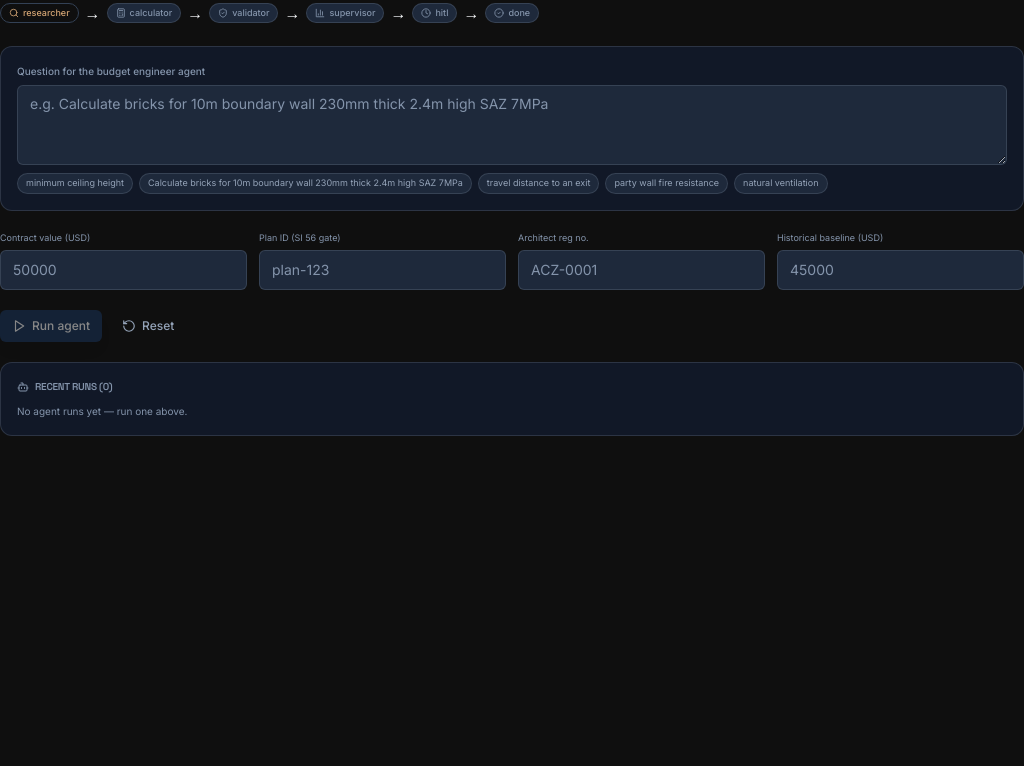
AgentRunnerPanel › shows an interrupt with Approve/Reject and resumes on APPROVED
Replace the text in the text box with test id "agent-query" with "proposed 2-storey block" at (512, 125), box [17,85,1007,165]
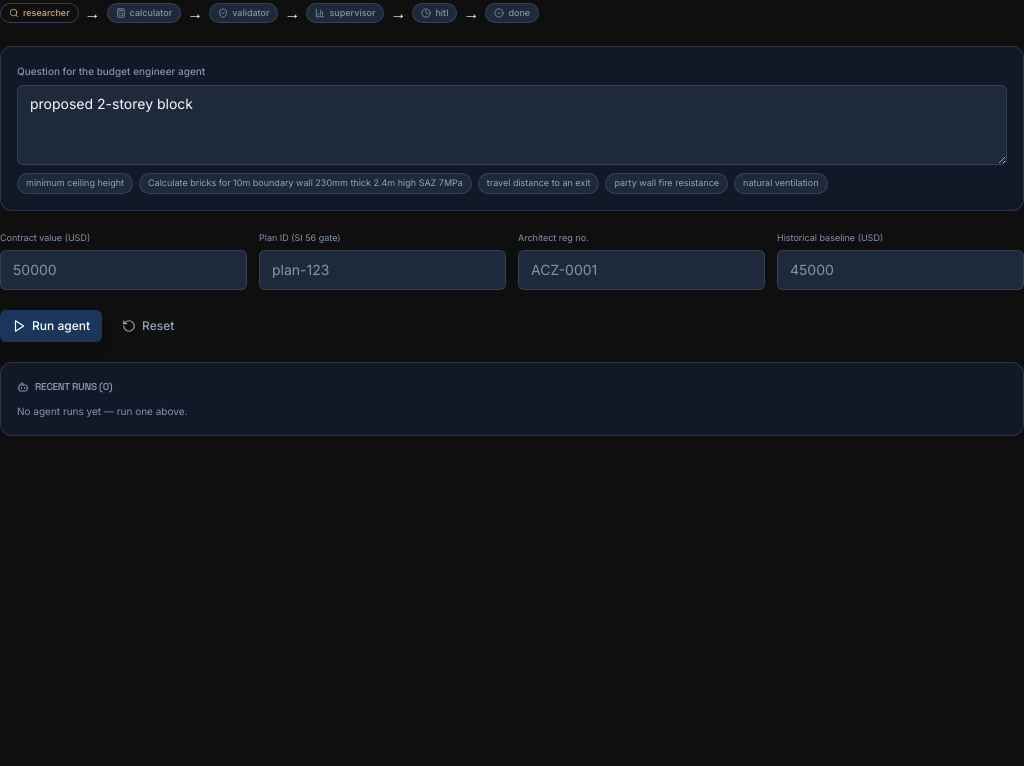
Click the button "Run agent" at (51, 326), box [0,310,102,342]
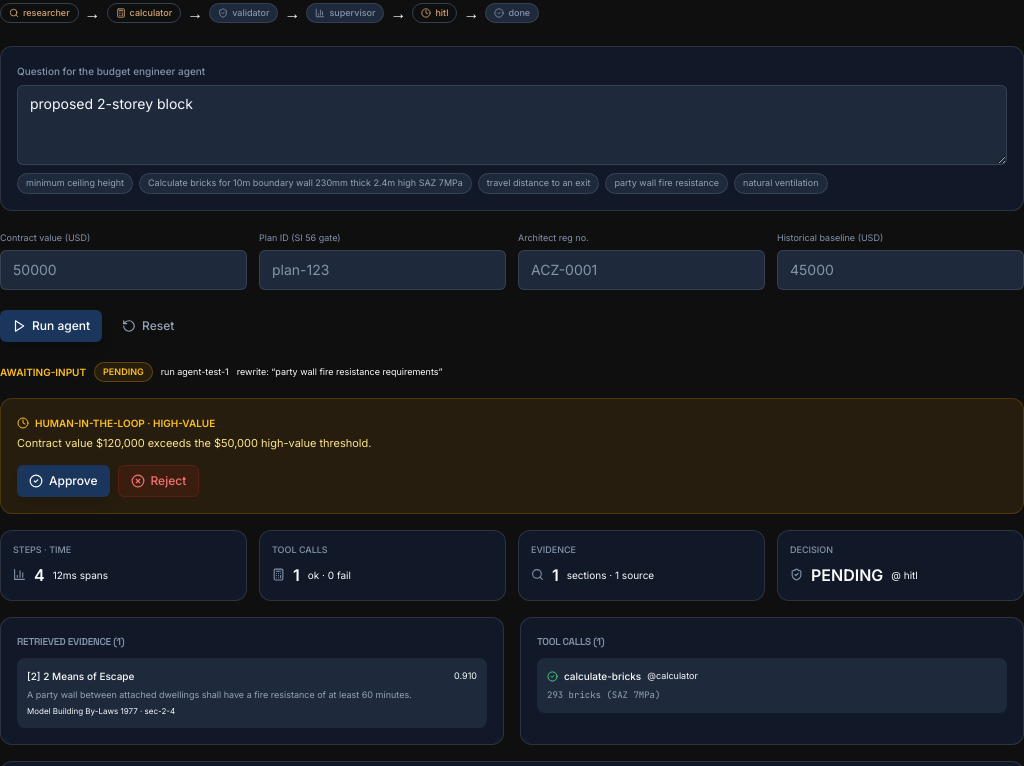
Expected: the text "Human-in-the-loop · high-value" is shown, [17,417,215,429]
Expected: the text "Contract value $120,000" is shown, [17,436,372,450]
Click the button with test id "agent-approve" at (63, 481), box [17,465,110,497]
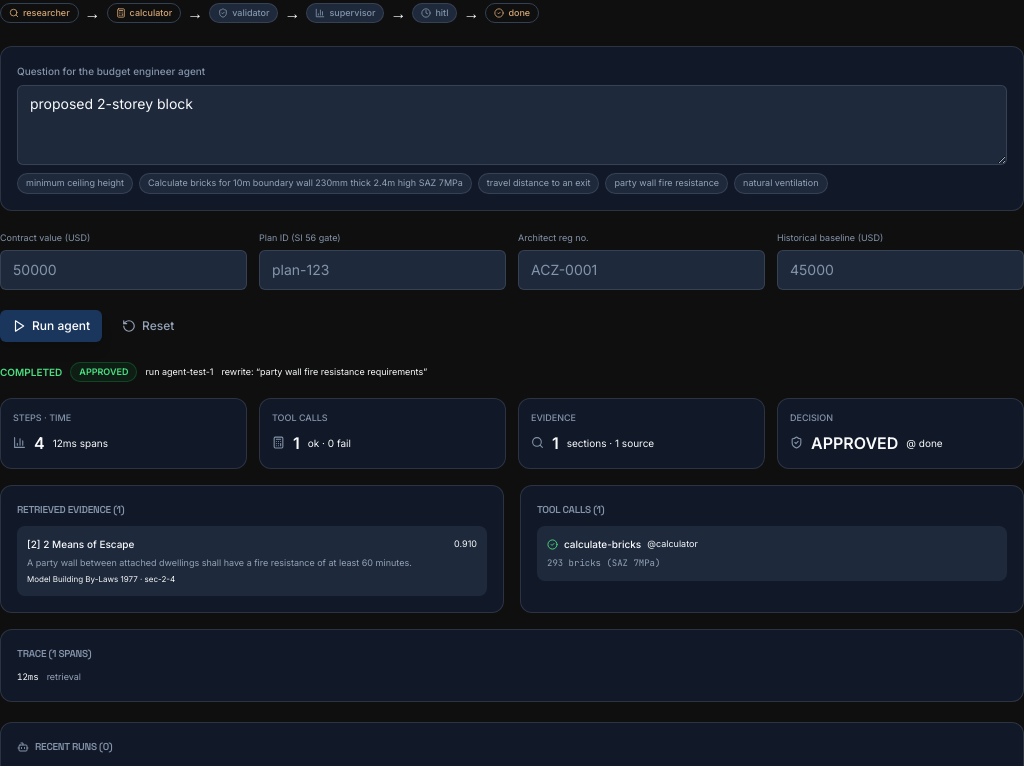
Expected: the text with test id "agent-status" reads "completed", [0,366,62,378]
Expected: the text with test id "agent-decision" reads "APPROVED", [79,366,128,376]
Expected: the text with test id "agent-interrupt" is gone
